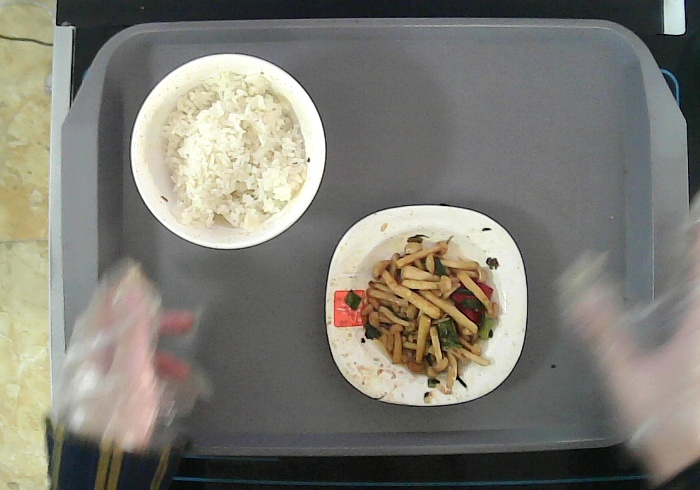SHKJ-Bai_Se_Si_Fang_Cai_Die: (322, 202, 531, 411)
SHKJ-Fan_Wan: (129, 50, 329, 252)
